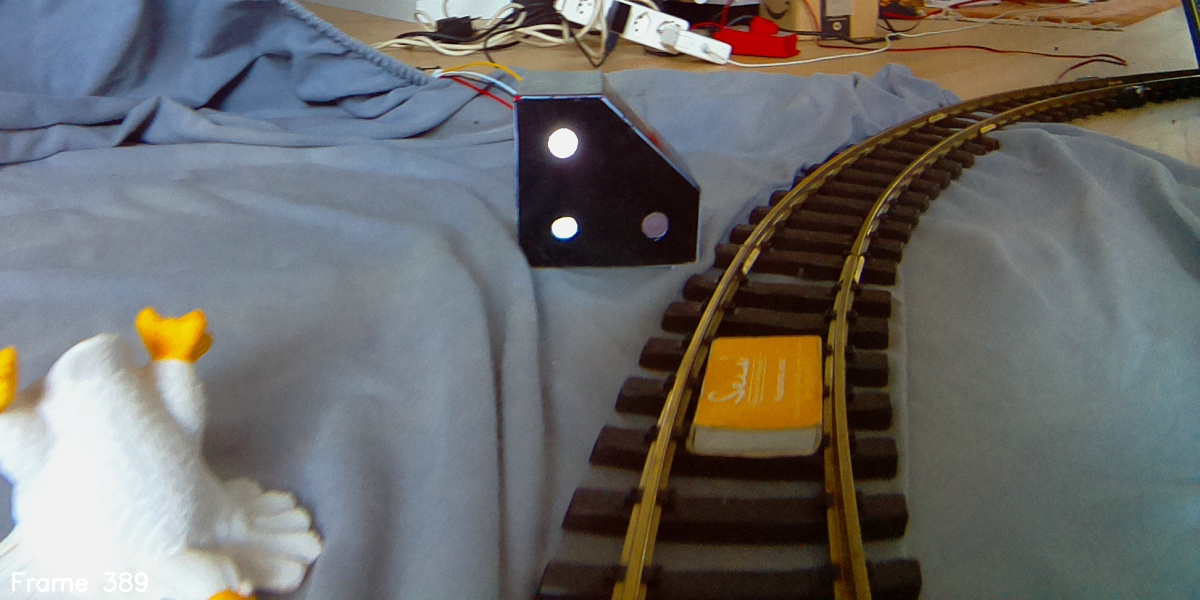Ente: (1, 307, 324, 599)
Fahrt: (517, 63, 701, 270)
